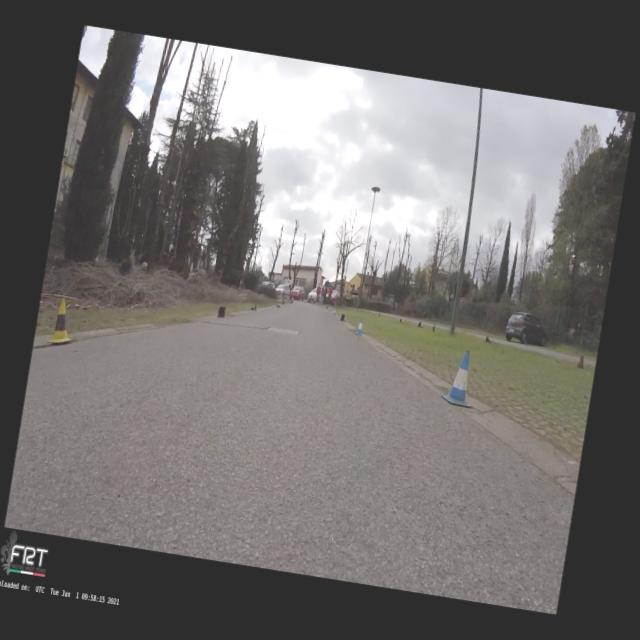blue_cone: (440, 348, 480, 408), (354, 318, 366, 337), (340, 314, 348, 322)
unknown_cone: (576, 354, 586, 370), (218, 306, 226, 319), (485, 336, 492, 343), (418, 322, 424, 329), (432, 323, 436, 332)
yellow_cone: (47, 296, 80, 347), (249, 302, 257, 312), (276, 303, 282, 308)
